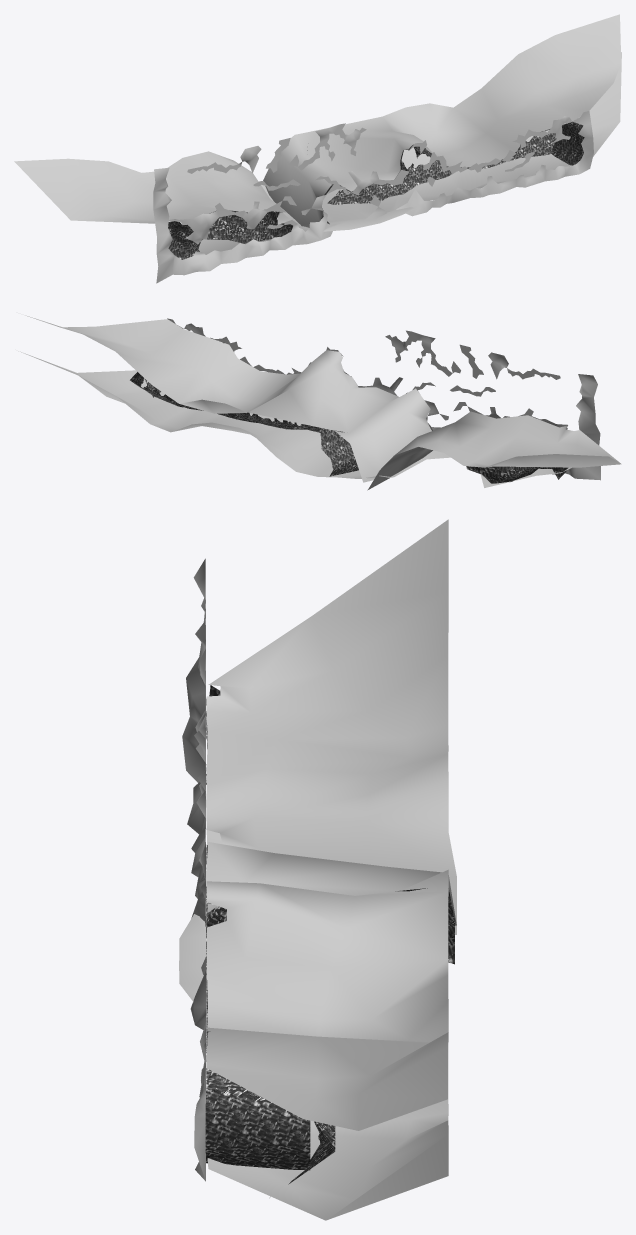
Rendered from Background.fbx.
The picture shows the model from 3 angles, top to bottom: view 1: azimuth 30°, elevation 25°; view 2: azimuth 150°, elevation 25°; view 3: azimuth 270°, elevation 25°; orthographic projection. The views are drawn at different scales.
Visible parts, largest first — view 1: Cube.005, Cube.001, Cube.004, Cube.003, Cube.002; view 2: Cube.005, Cube.004, Cube.001, Cube.003, Cube.002; view 3: Cube.005, Cube.004, Cube.003, Cube.001.
Boxes of the visible parts, x1,y1,x2,y2 form: Cube.005: (14,14,621,227); Cube.001: (153,111,593,283); Cube.004: (198,52,621,254); Cube.003: (307,121,584,224); Cube.002: (168,209,292,259); Cube.005: (25,315,621,490); Cube.004: (18,351,571,487); Cube.001: (167,318,600,480); Cube.003: (130,339,358,476); Cube.002: (466,428,568,483); Cube.005: (205,519,456,1130); Cube.004: (179,794,448,1220); Cube.003: (205,845,454,1184); Cube.001: (182,558,205,1181).
Bounding box in the file's own units: 116 × 20.47 × 23.47.
